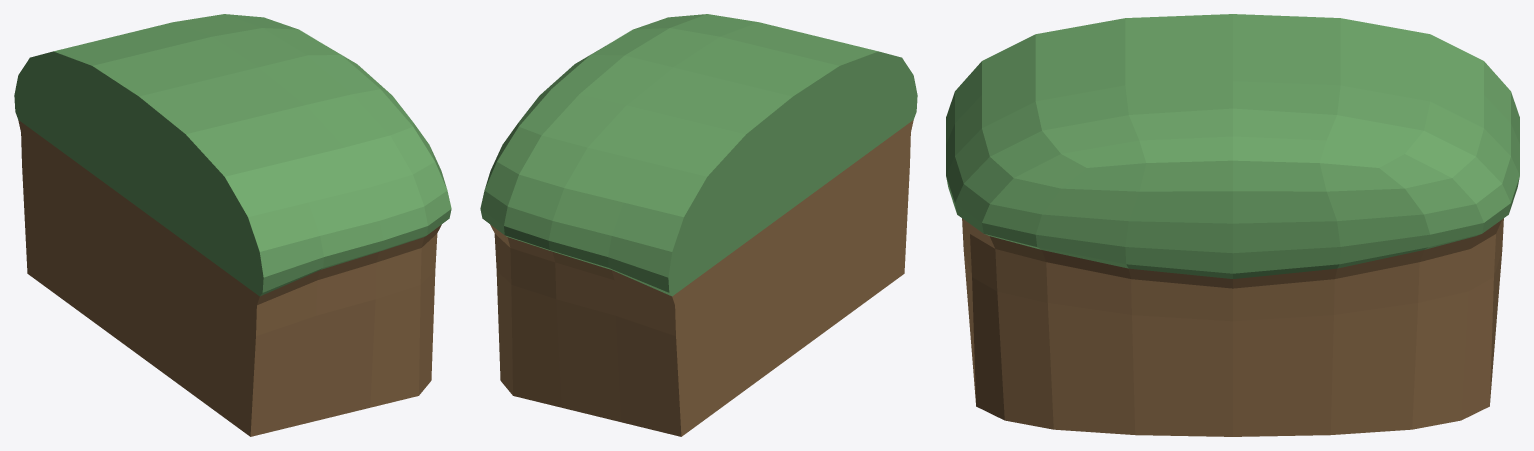
Rendered from platform_topright.glb.
The picture shows the model from 3 angles, left to right: view 1: azimuth 30°, elevation 25°; view 2: azimuth 150°, elevation 25°; view 3: azimuth 270°, elevation 25°; orthographic projection. The views are drawn at different scales.
Visible parts, largest first — view 1: Platform_TopRight; view 2: Platform_TopRight; view 3: Platform_TopRight.
Part boxes in pixels (x1,y1,x2,y2): Platform_TopRight: [14, 14, 451, 436]; Platform_TopRight: [480, 14, 917, 436]; Platform_TopRight: [946, 14, 1519, 436].
Bounding box in the file's own units: 1.9 × 2 × 3.49.
